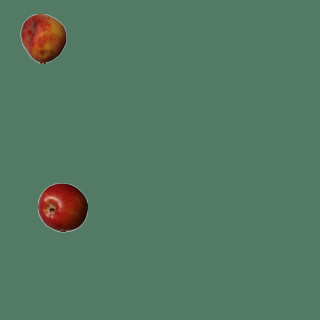Apple Braeburn: (37, 182, 87, 232)
Peach: (18, 13, 68, 63)
